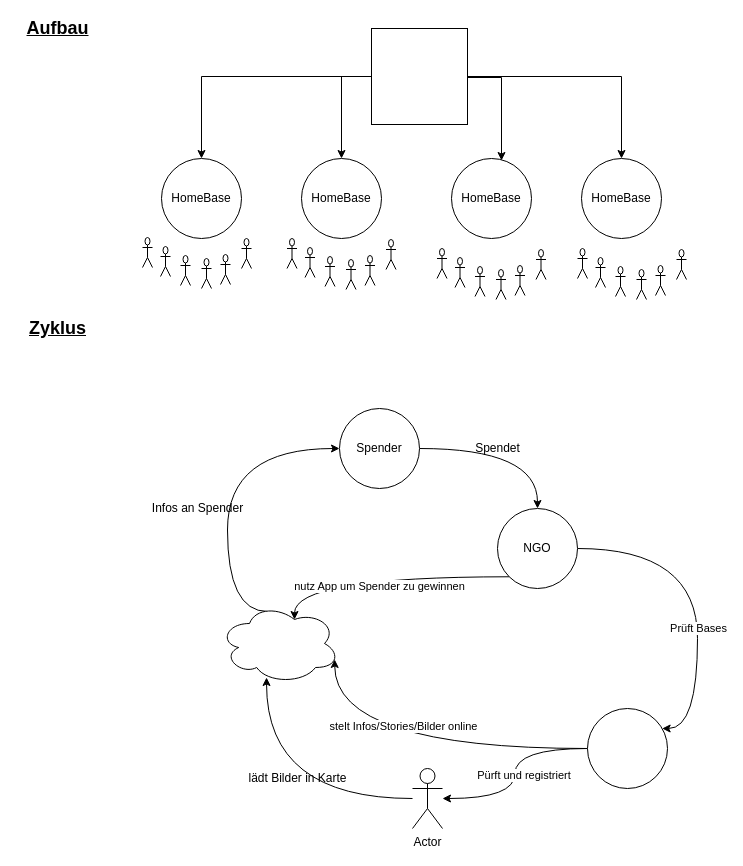
The diagram is 743 pixels wide and 866 high, and some of its shapes have lost their labels. Here are the shapes that lost their labels. From the top down, the centre of each, then its label:
(419,76): NGO/NPO
(279,643): App
(627,748): Base
